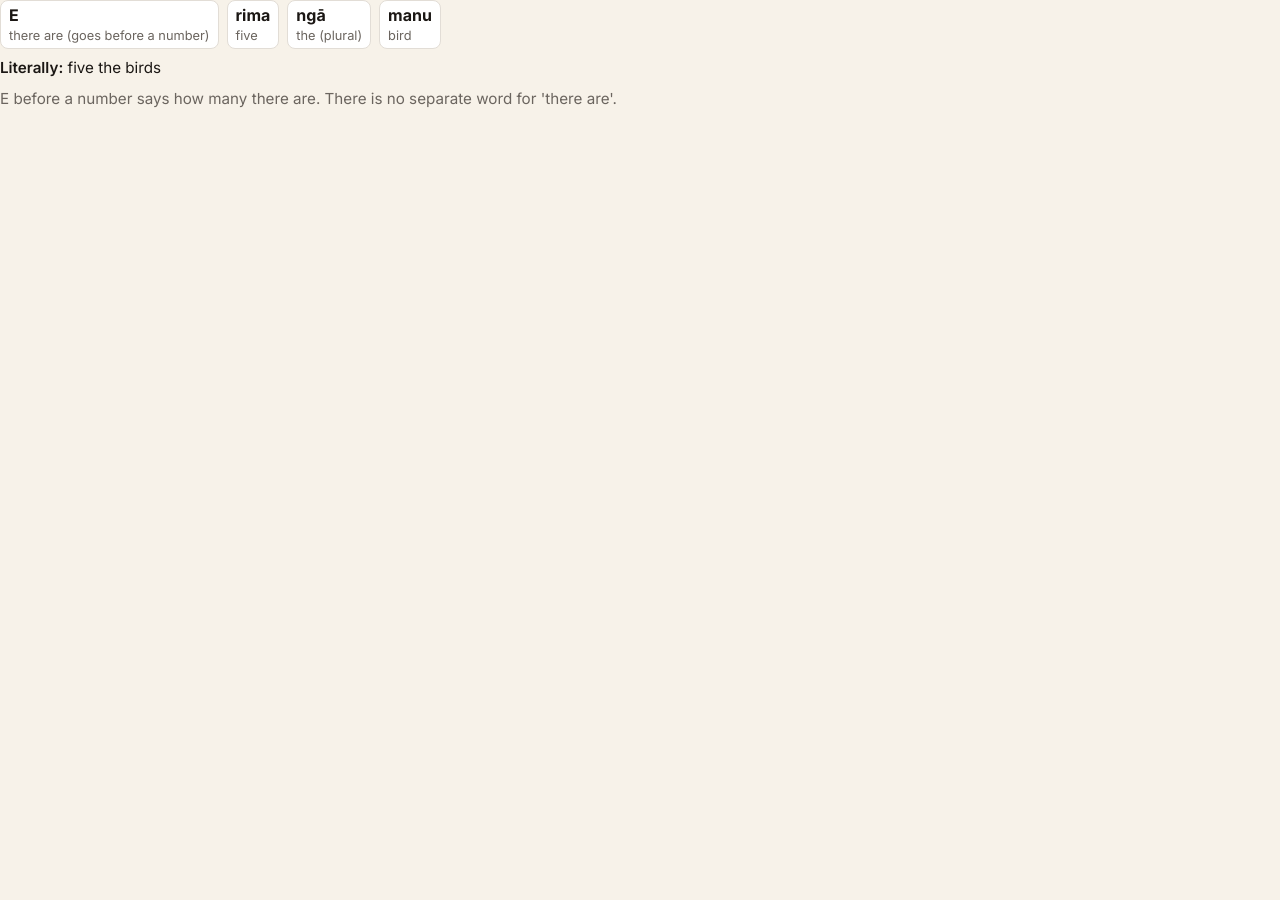
Test: Breakdown › opens a popover for a word with the particle explanation and marks the button expanded (AC4)
Click the button "ngā the (plural)".
click(329, 25)  # box [287, 0, 371, 49]
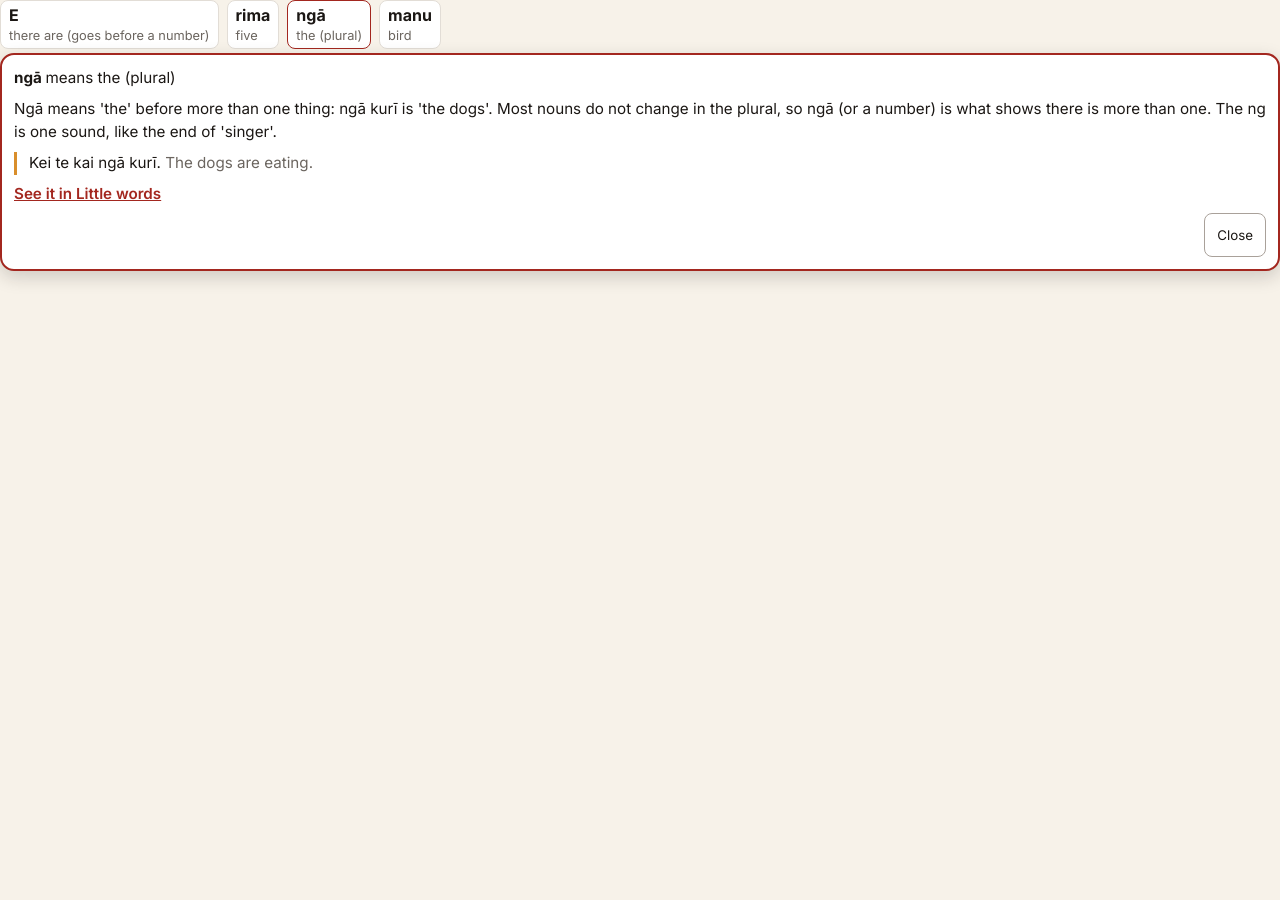
Check: the dialog shows "the (plural)", box [98, 68, 176, 87]
Check: the dialog shows "more than one thing", box [14, 99, 1266, 141]
